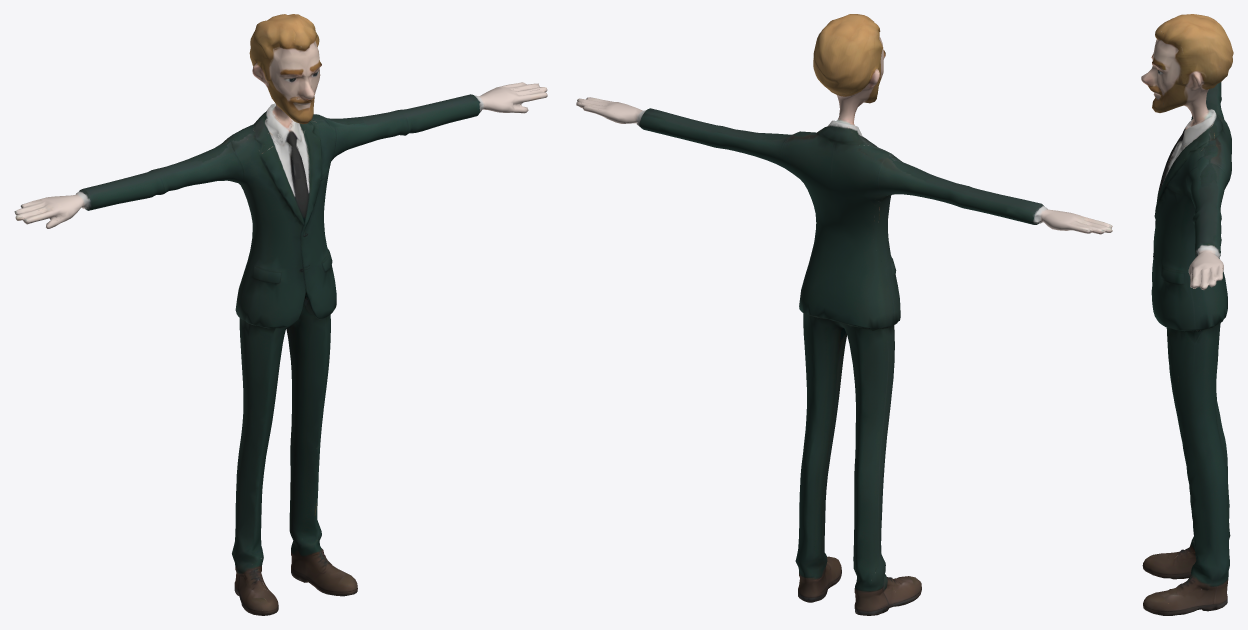
The model's file is MelanieEsi.fbx.
3 views of the same model, side by side, from view 1: azimuth 30°, elevation 25°; view 2: azimuth 150°, elevation 25°; view 3: azimuth 270°, elevation 25° (orthographic).
Visible parts, largest first — view 1: Mesh_0; view 2: Mesh_0; view 3: Mesh_0.
Part boxes in pixels (left/top/right/bottom): Mesh_0: left=14, top=14, right=547, bottom=615; Mesh_0: left=576, top=14, right=1112, bottom=615; Mesh_0: left=1141, top=14, right=1233, bottom=615.
Bounding box in the file's own units: 185 × 191 × 27.92.
1 material, 1 textured.
